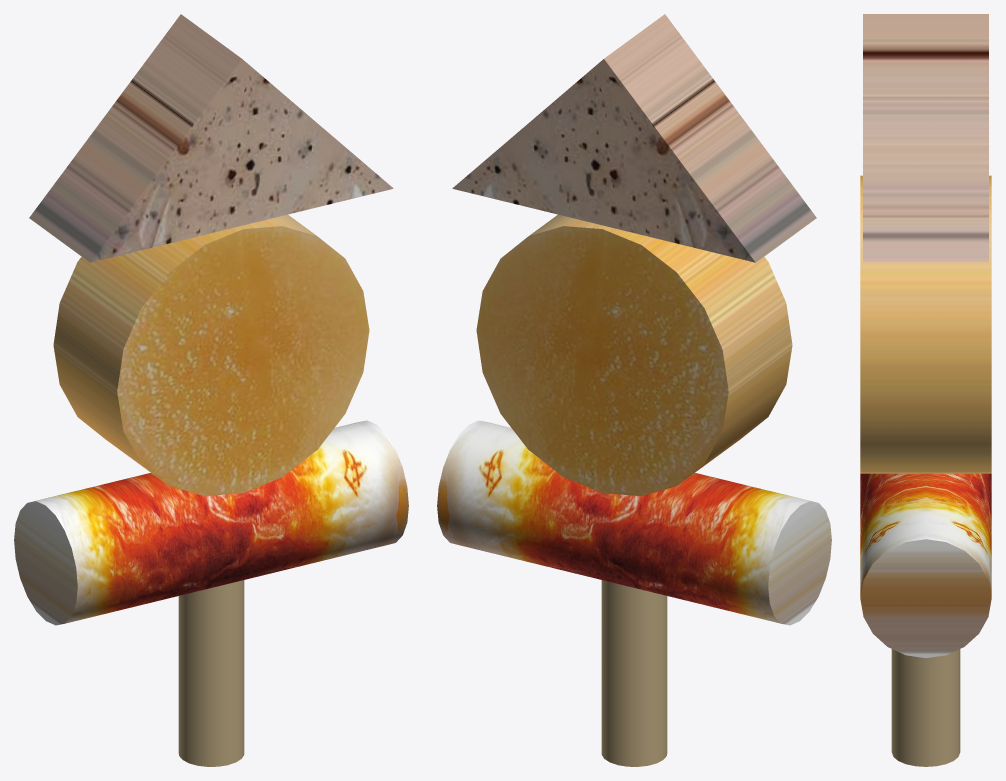
The model's file is Oden.fbx.
3 renders of one model, left to right at view 1: azimuth 30°, elevation 25°; view 2: azimuth 150°, elevation 25°; view 3: azimuth 270°, elevation 25°, orthographic. The views are drawn at different scales.
Visible parts, largest first — view 1: pPrism2; view 2: pPrism2; view 3: pPrism2.
Part boxes in pixels (left/top/right/bottom): pPrism2: left=14, top=14, right=408, bottom=766; pPrism2: left=437, top=14, right=831, bottom=766; pPrism2: left=860, top=14, right=991, bottom=766.
Size of the model in its own units: 2.31 by 4.77 by 0.7688.
2 materials, 1 textured.
